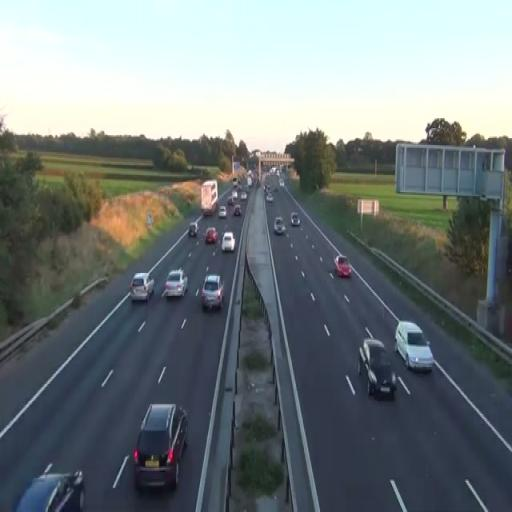Car: (133, 403, 189, 492), (14, 465, 85, 512), (358, 337, 398, 400), (394, 321, 434, 373), (200, 274, 225, 312), (162, 268, 188, 298), (129, 272, 154, 303), (334, 255, 351, 278), (221, 232, 235, 252), (274, 216, 286, 235), (205, 227, 218, 244), (290, 212, 300, 226), (218, 205, 228, 219)
Truck: (201, 180, 218, 217)
